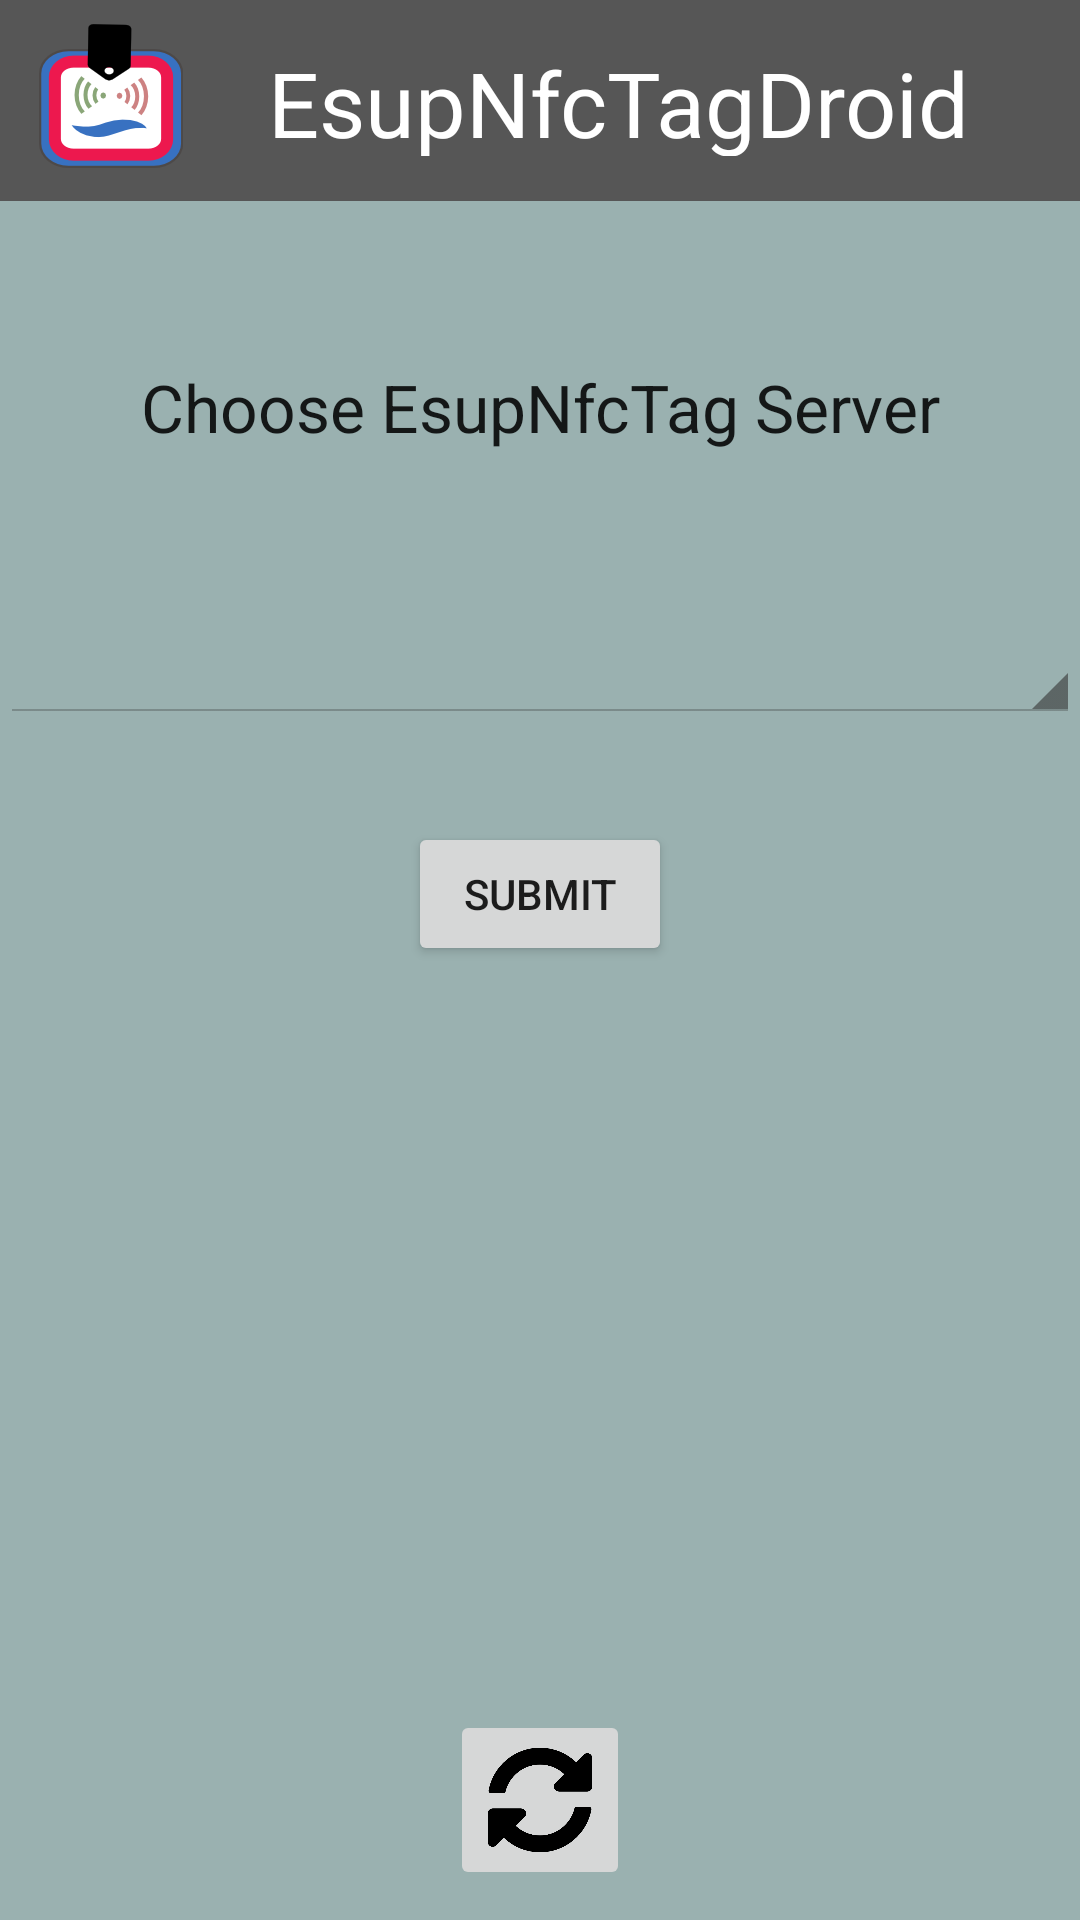

Screen size 1080px x 1920px. Icon name, then its box in pixels as (x1,y1,x2,y2):
Refresh: (462,1728,618,1872)
